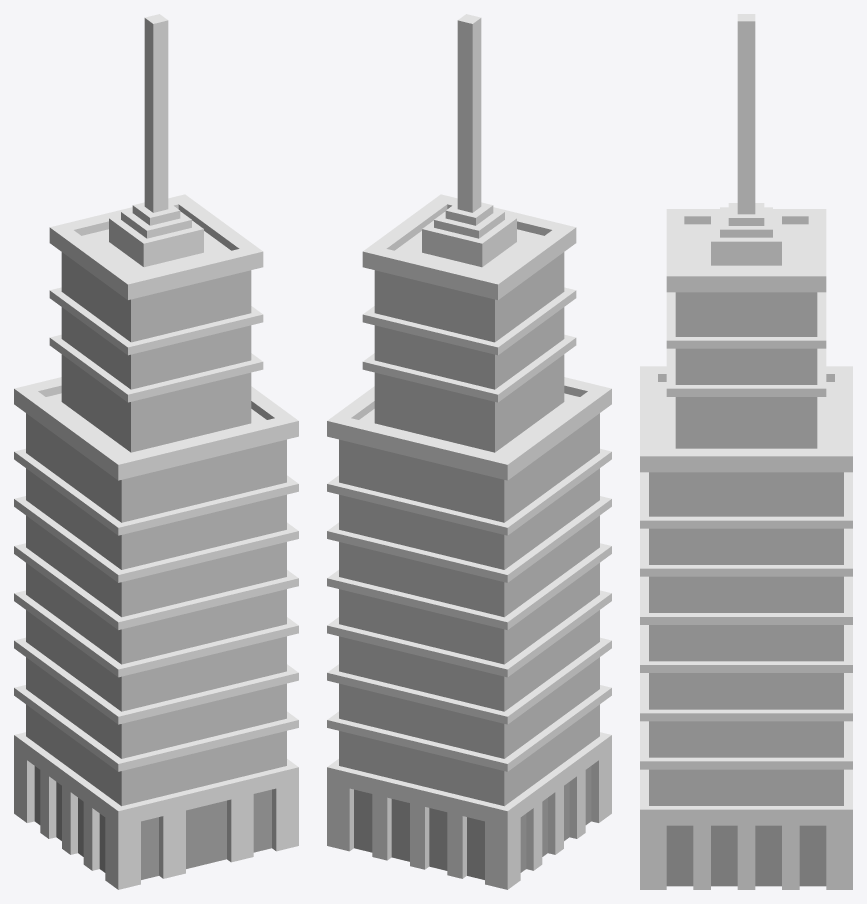
File: building_6.obj
The picture shows the model from 3 angles, left to right: view 1: azimuth 30°, elevation 25°; view 2: azimuth 150°, elevation 25°; view 3: azimuth 270°, elevation 25°; orthographic projection. The views are drawn at different scales.
Bounding box in the file's own units: 2.4 × 10.3 × 2.4.
1 material, 1 textured.
